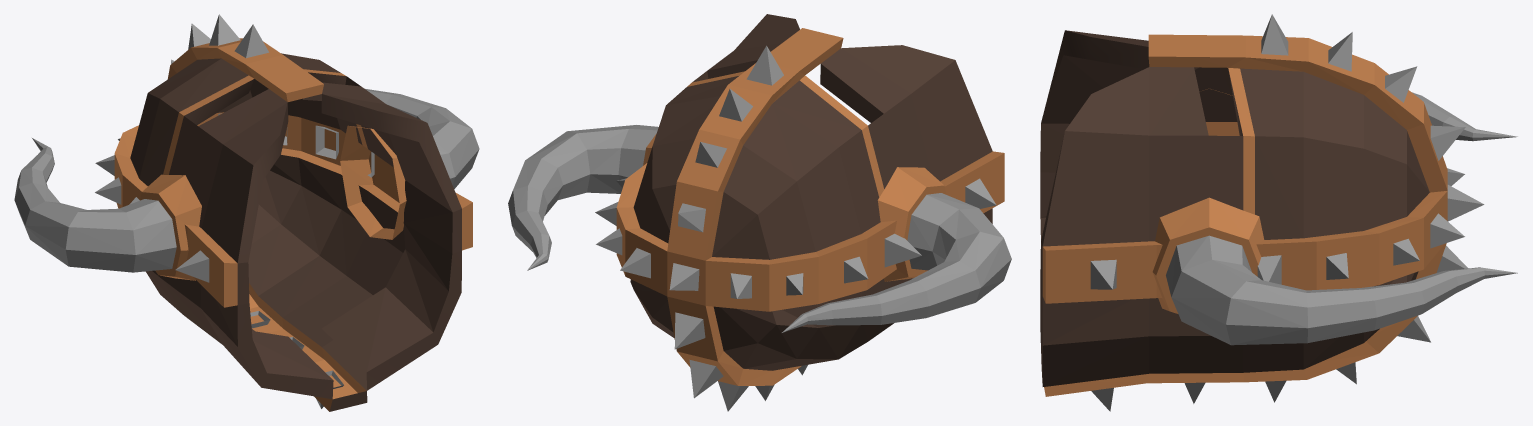
Rendered from Helmet 10.FBX.
3 views of the same model, side by side, from view 1: azimuth 30°, elevation 25°; view 2: azimuth 150°, elevation 25°; view 3: azimuth 270°, elevation 25° (orthographic). The views are drawn at different scales.
Parts seen in each view (by area): view 1: Helmet 10; view 2: Helmet 10; view 3: Helmet 10.
Boxes of the visible parts, <box> form: Helmet 10: <box>14,14,479,411</box>; Helmet 10: <box>508,14,1011,411</box>; Helmet 10: <box>1040,14,1517,411</box>.
Size of the model in its own units: 68.33 by 56.07 by 51.44.
